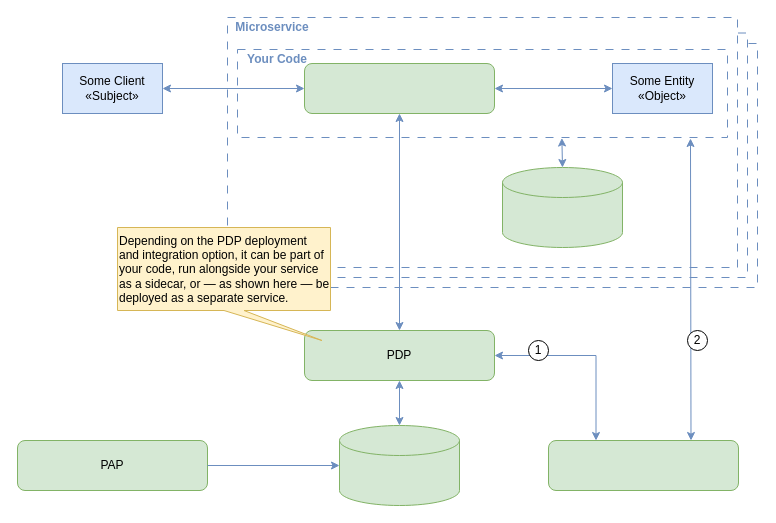
This 776x523 diagram has some shape labels left out. The shapes that lost their labels are listed below. From the top down, each one's centre as x and y in pixels, then its label:
the point at 399,88: PEP
the point at 562,207: microservice DB «PIP»
the point at 399,465: Policy Repository
the point at 643,465: Other Services «PIP»
